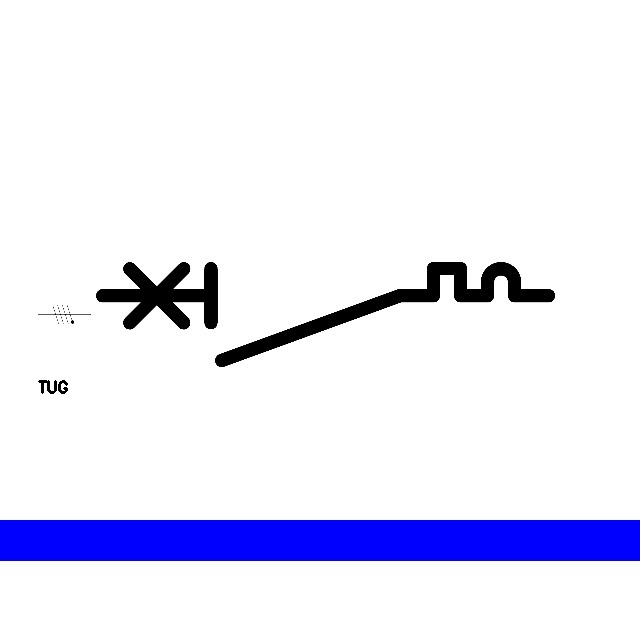interruptor_termomagnetico: (91, 257, 560, 372)
